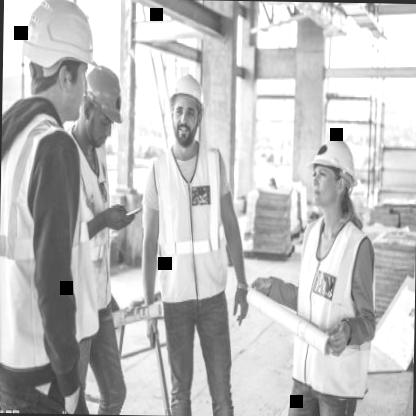helmet: (16, 0, 95, 125), (306, 128, 361, 217), (80, 61, 126, 150), (165, 65, 208, 150)
